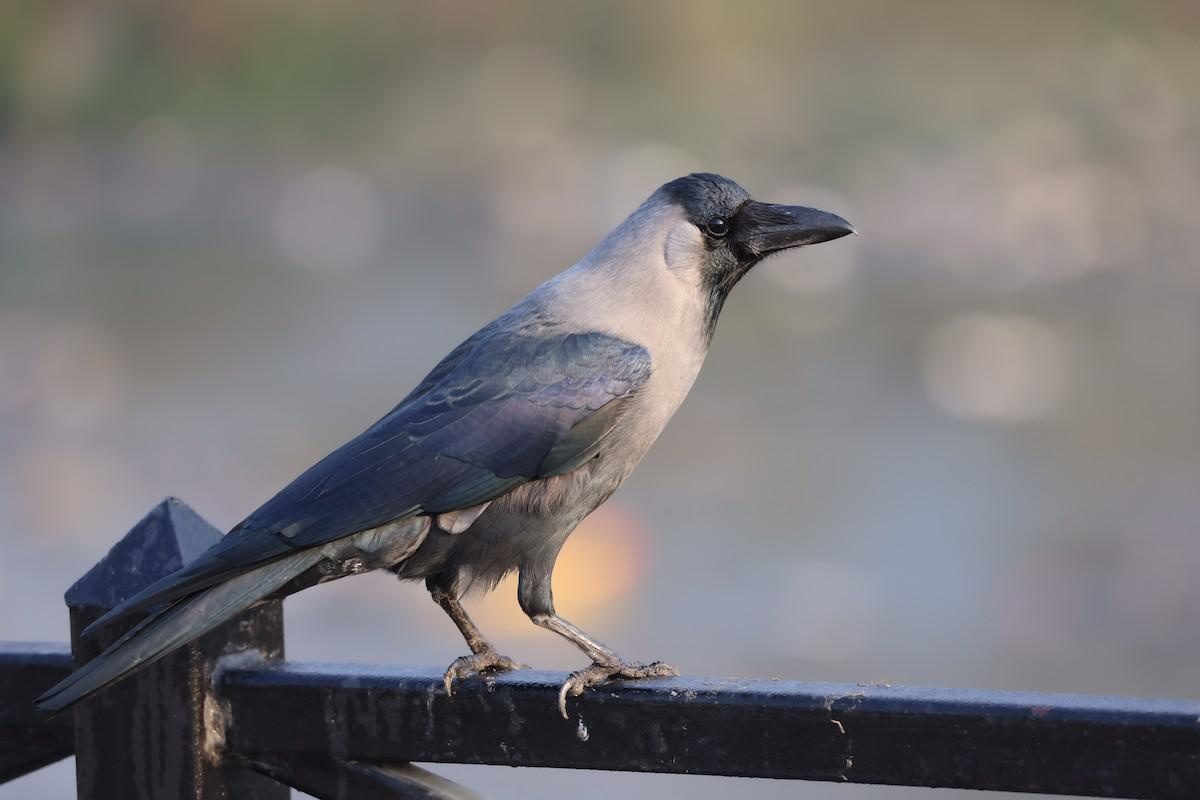crow: (39, 155, 866, 759)
